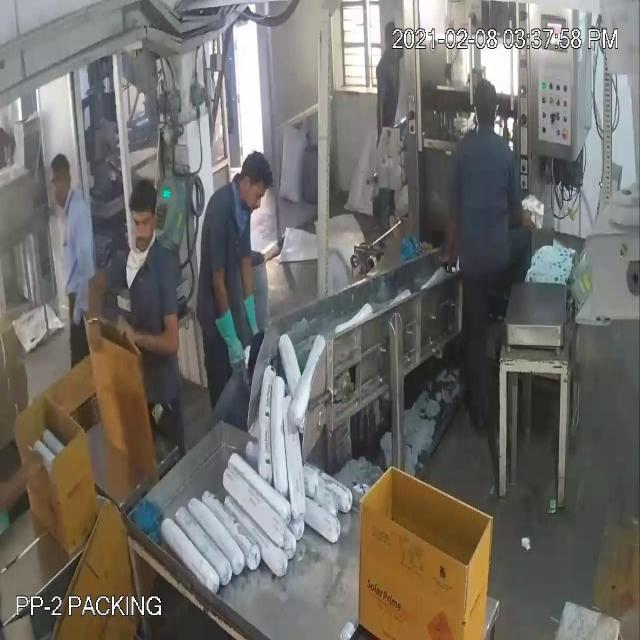No_Gloves: (21, 54, 250, 478)
